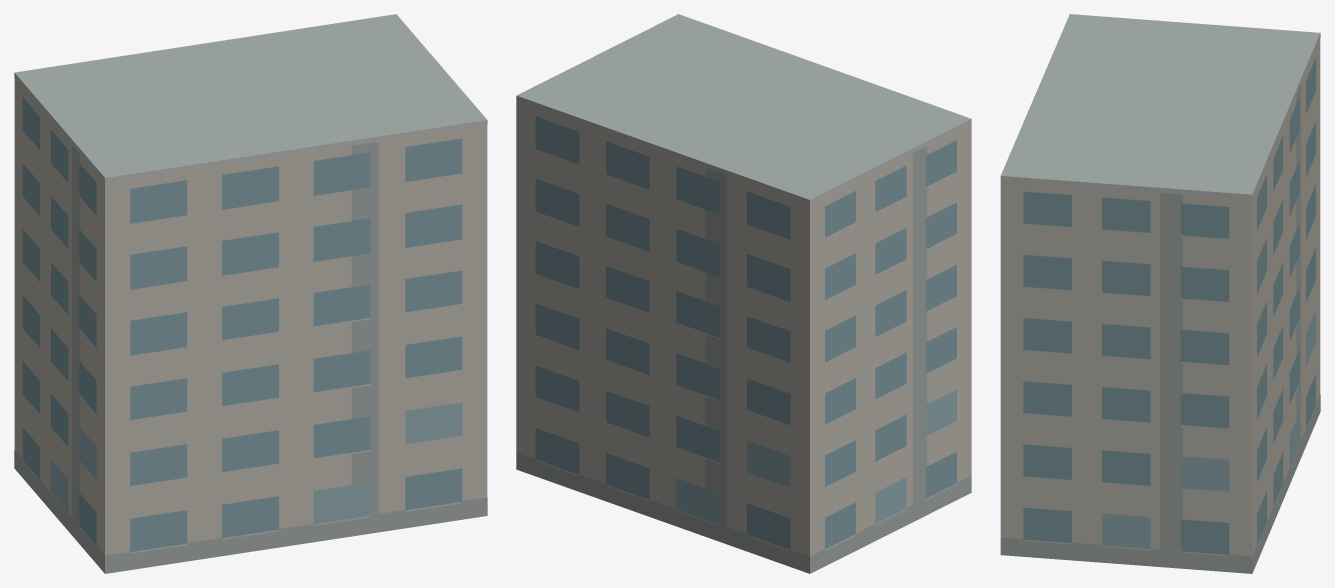
Rendered from survey-upis-32898817.glb.
3 views of the same model, side by side, from view 1: azimuth 30°, elevation 25°; view 2: azimuth 150°, elevation 25°; view 3: azimuth 270°, elevation 25° (orthographic). The views are drawn at different scales.
Parts seen in each view (by area): view 1: survey-upis-32898817.tmp; view 2: survey-upis-32898817.tmp; view 3: survey-upis-32898817.tmp.
Boxes of the visible parts, <box> form: survey-upis-32898817.tmp: <box>14,14,487,573</box>; survey-upis-32898817.tmp: <box>516,14,971,573</box>; survey-upis-32898817.tmp: <box>1000,14,1320,573</box>.
Bounding box in the file's own units: 18.71 × 18.3 × 14.
